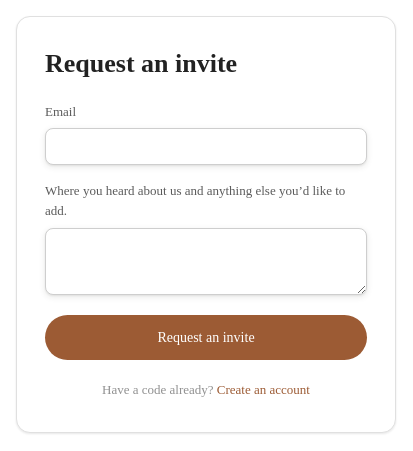
Test case: RequestInvitePage › reads the address back, since a typo looks like success
Type "typo@example.com" into the field labelled "Email". click: coordinates (206, 147)
box: [45, 128, 367, 165]
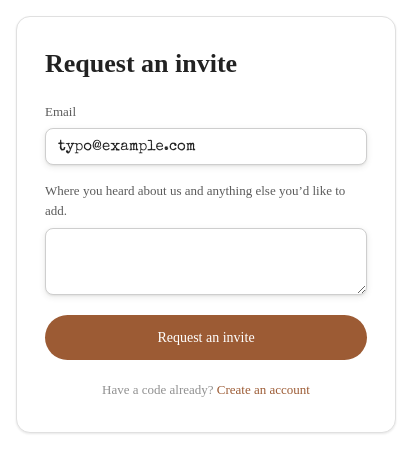
Click the button "Request an invite". click: coordinates (206, 337)
box: [45, 314, 367, 360]
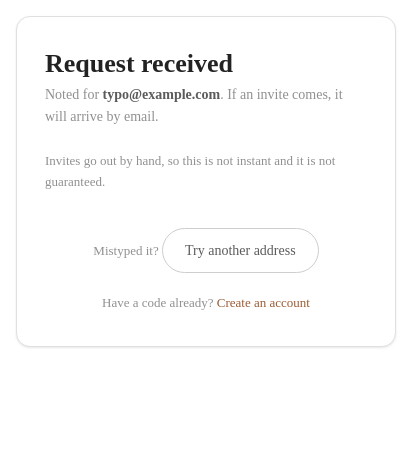
Now the text "typo@example.com" is shown, box [102, 87, 220, 102]
